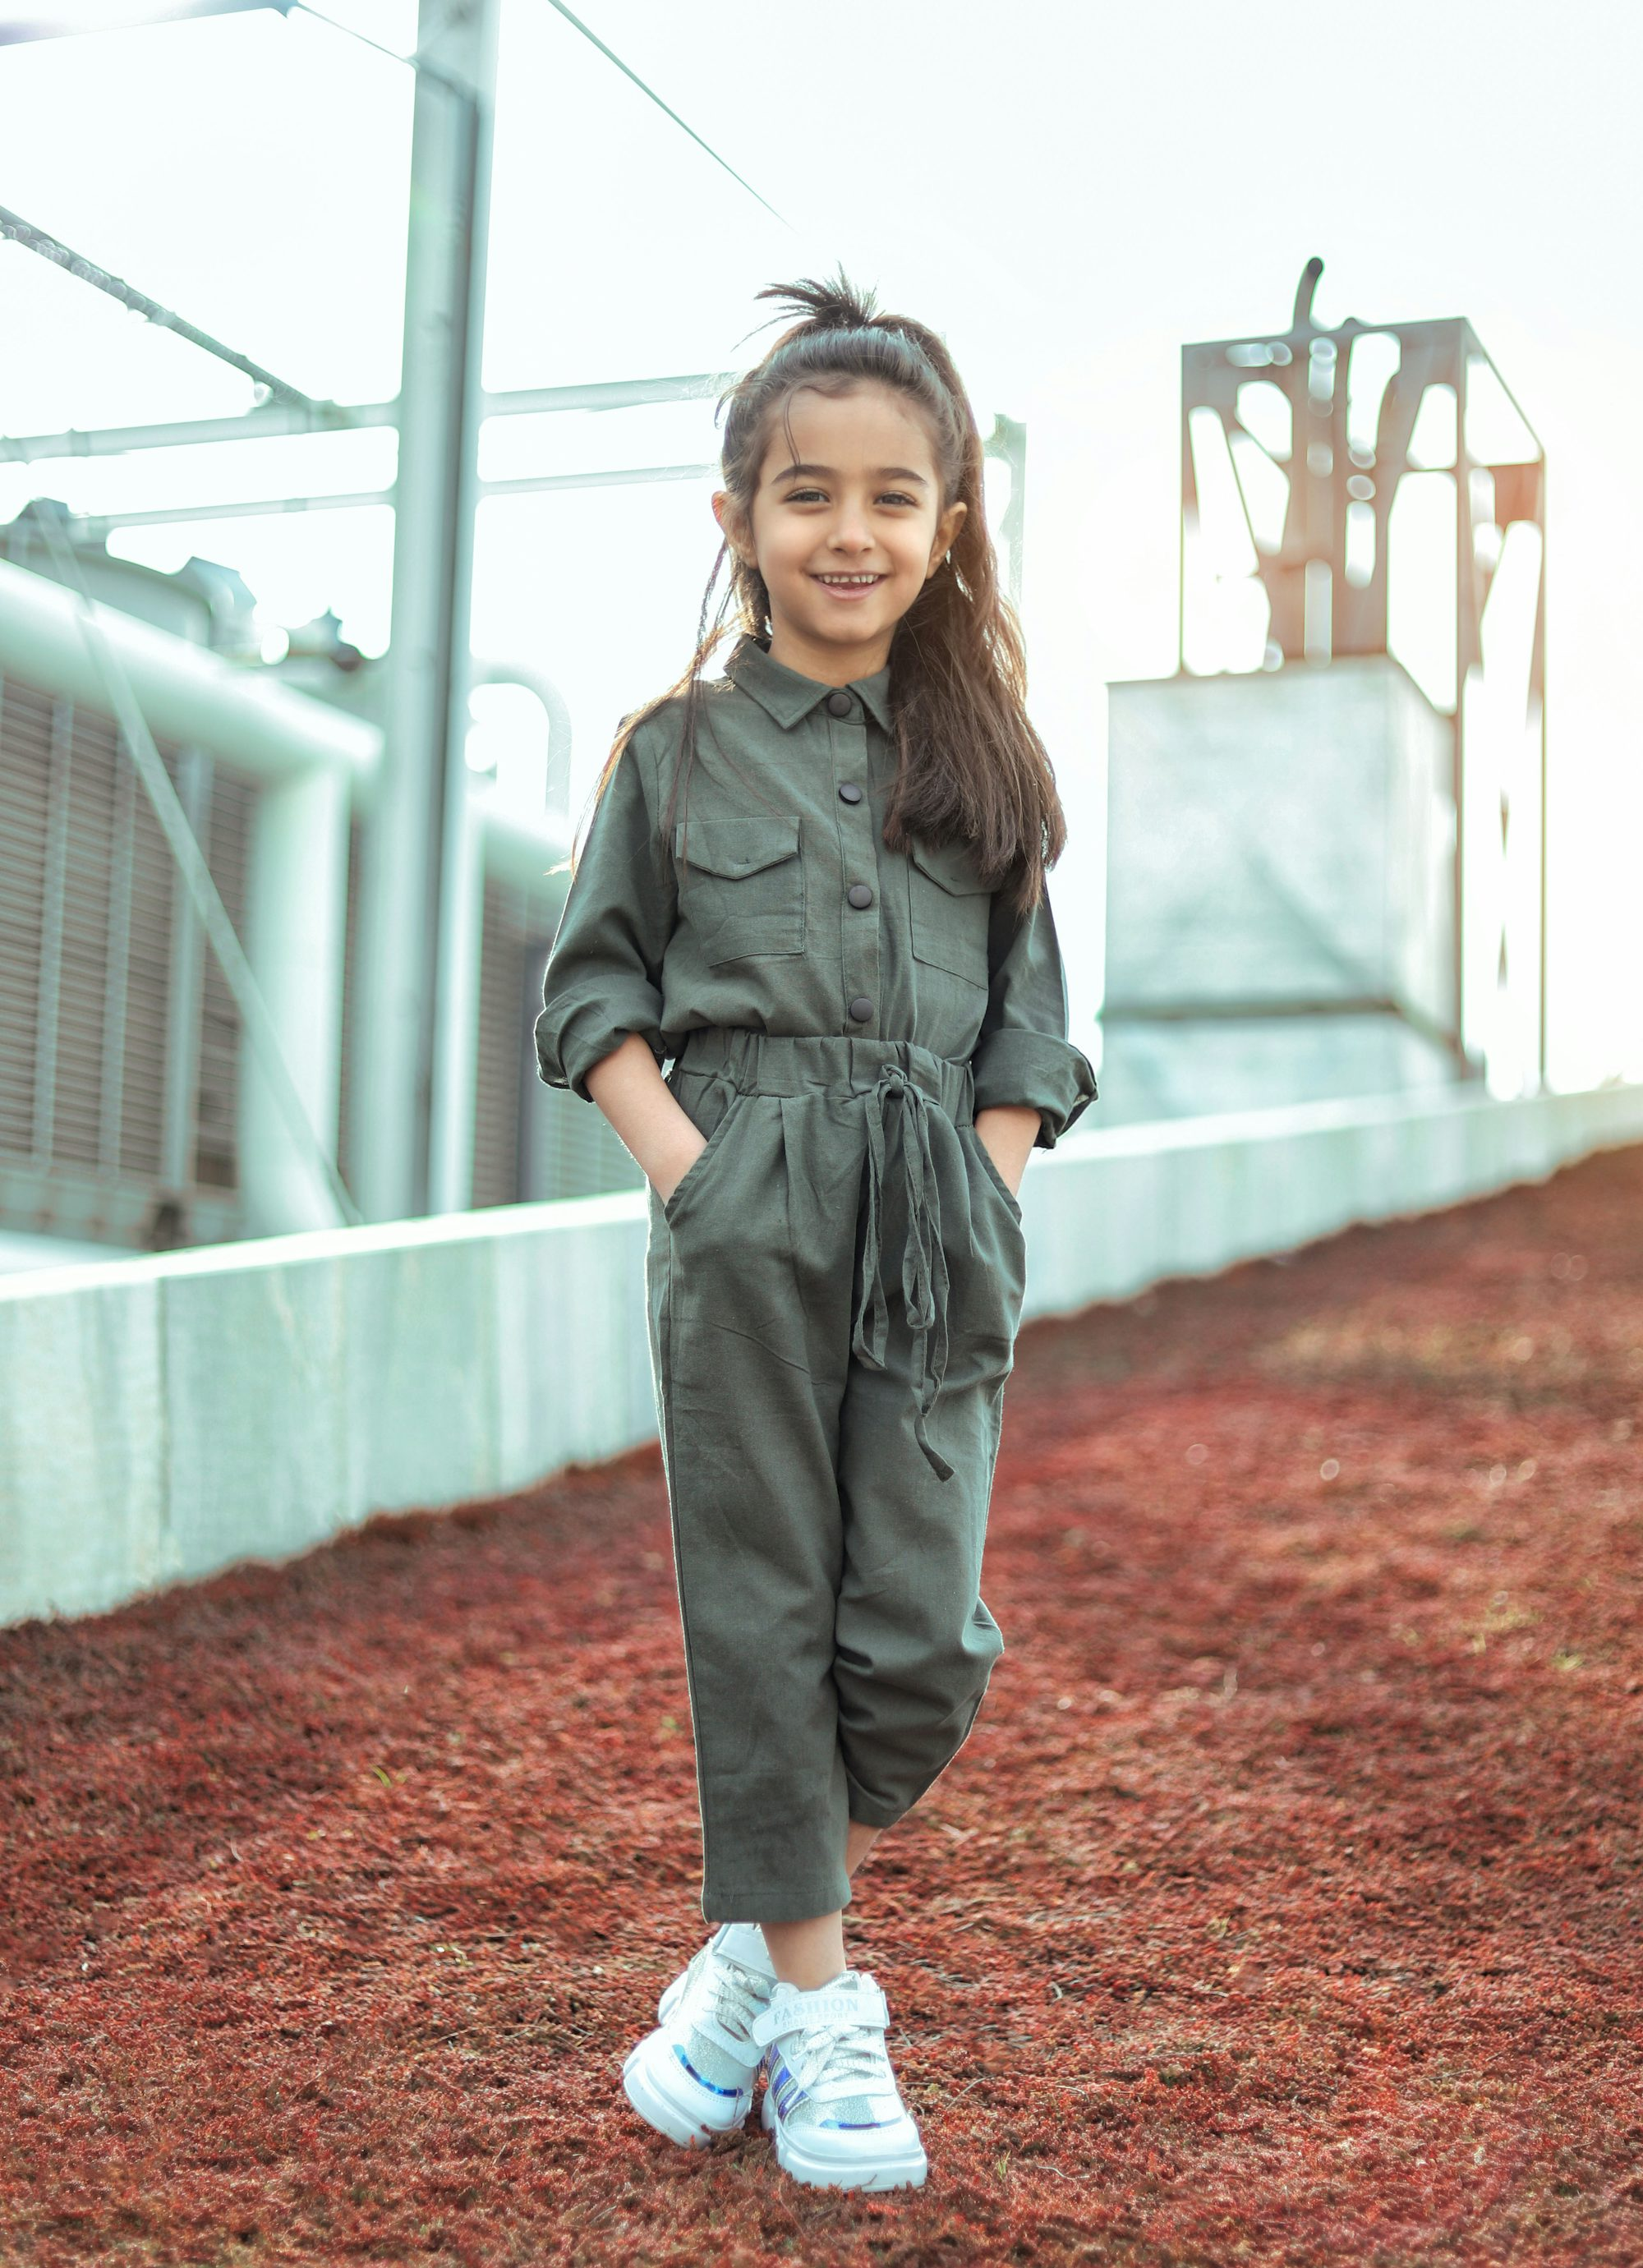person: (499, 264, 1250, 2199)
